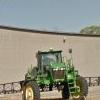Tractor: (18, 42, 100, 100)
